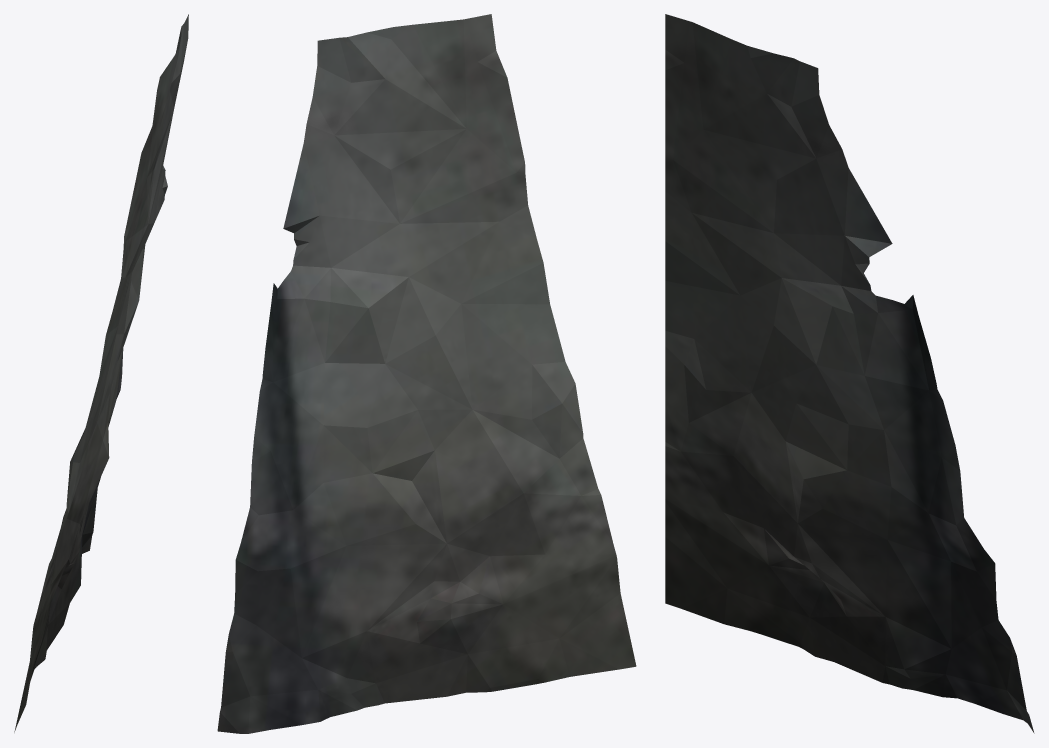
3 renders of one model, left to right at view 1: azimuth 30°, elevation 25°; view 2: azimuth 150°, elevation 25°; view 3: azimuth 270°, elevation 25°, orthographic. The views are drawn at different scales.
Bounding box in the file's own units: 0.3519 × 0.8374 × 0.4207.
1 material, 1 textured.
